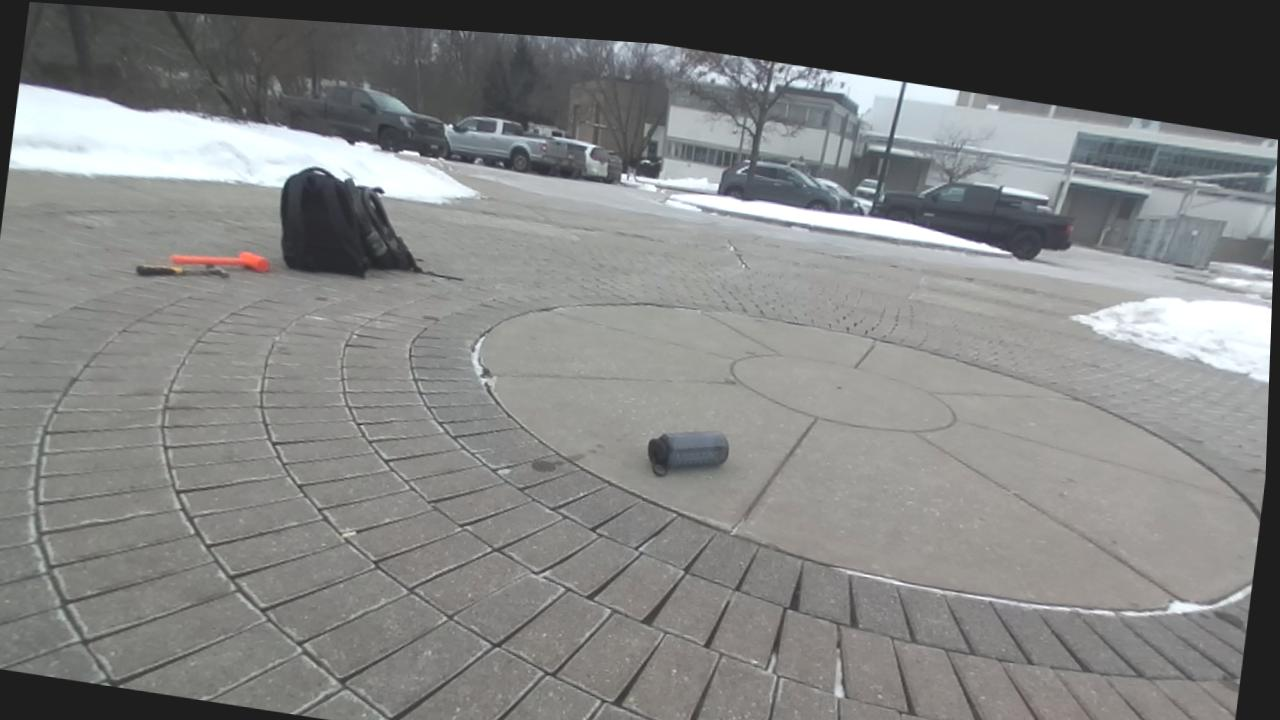bottle: (647, 431, 728, 476)
mallet: (171, 251, 269, 272)
pick: (136, 264, 228, 276)
